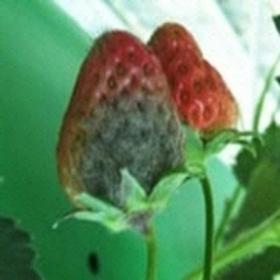Gray Mold: (57, 32, 187, 211)
